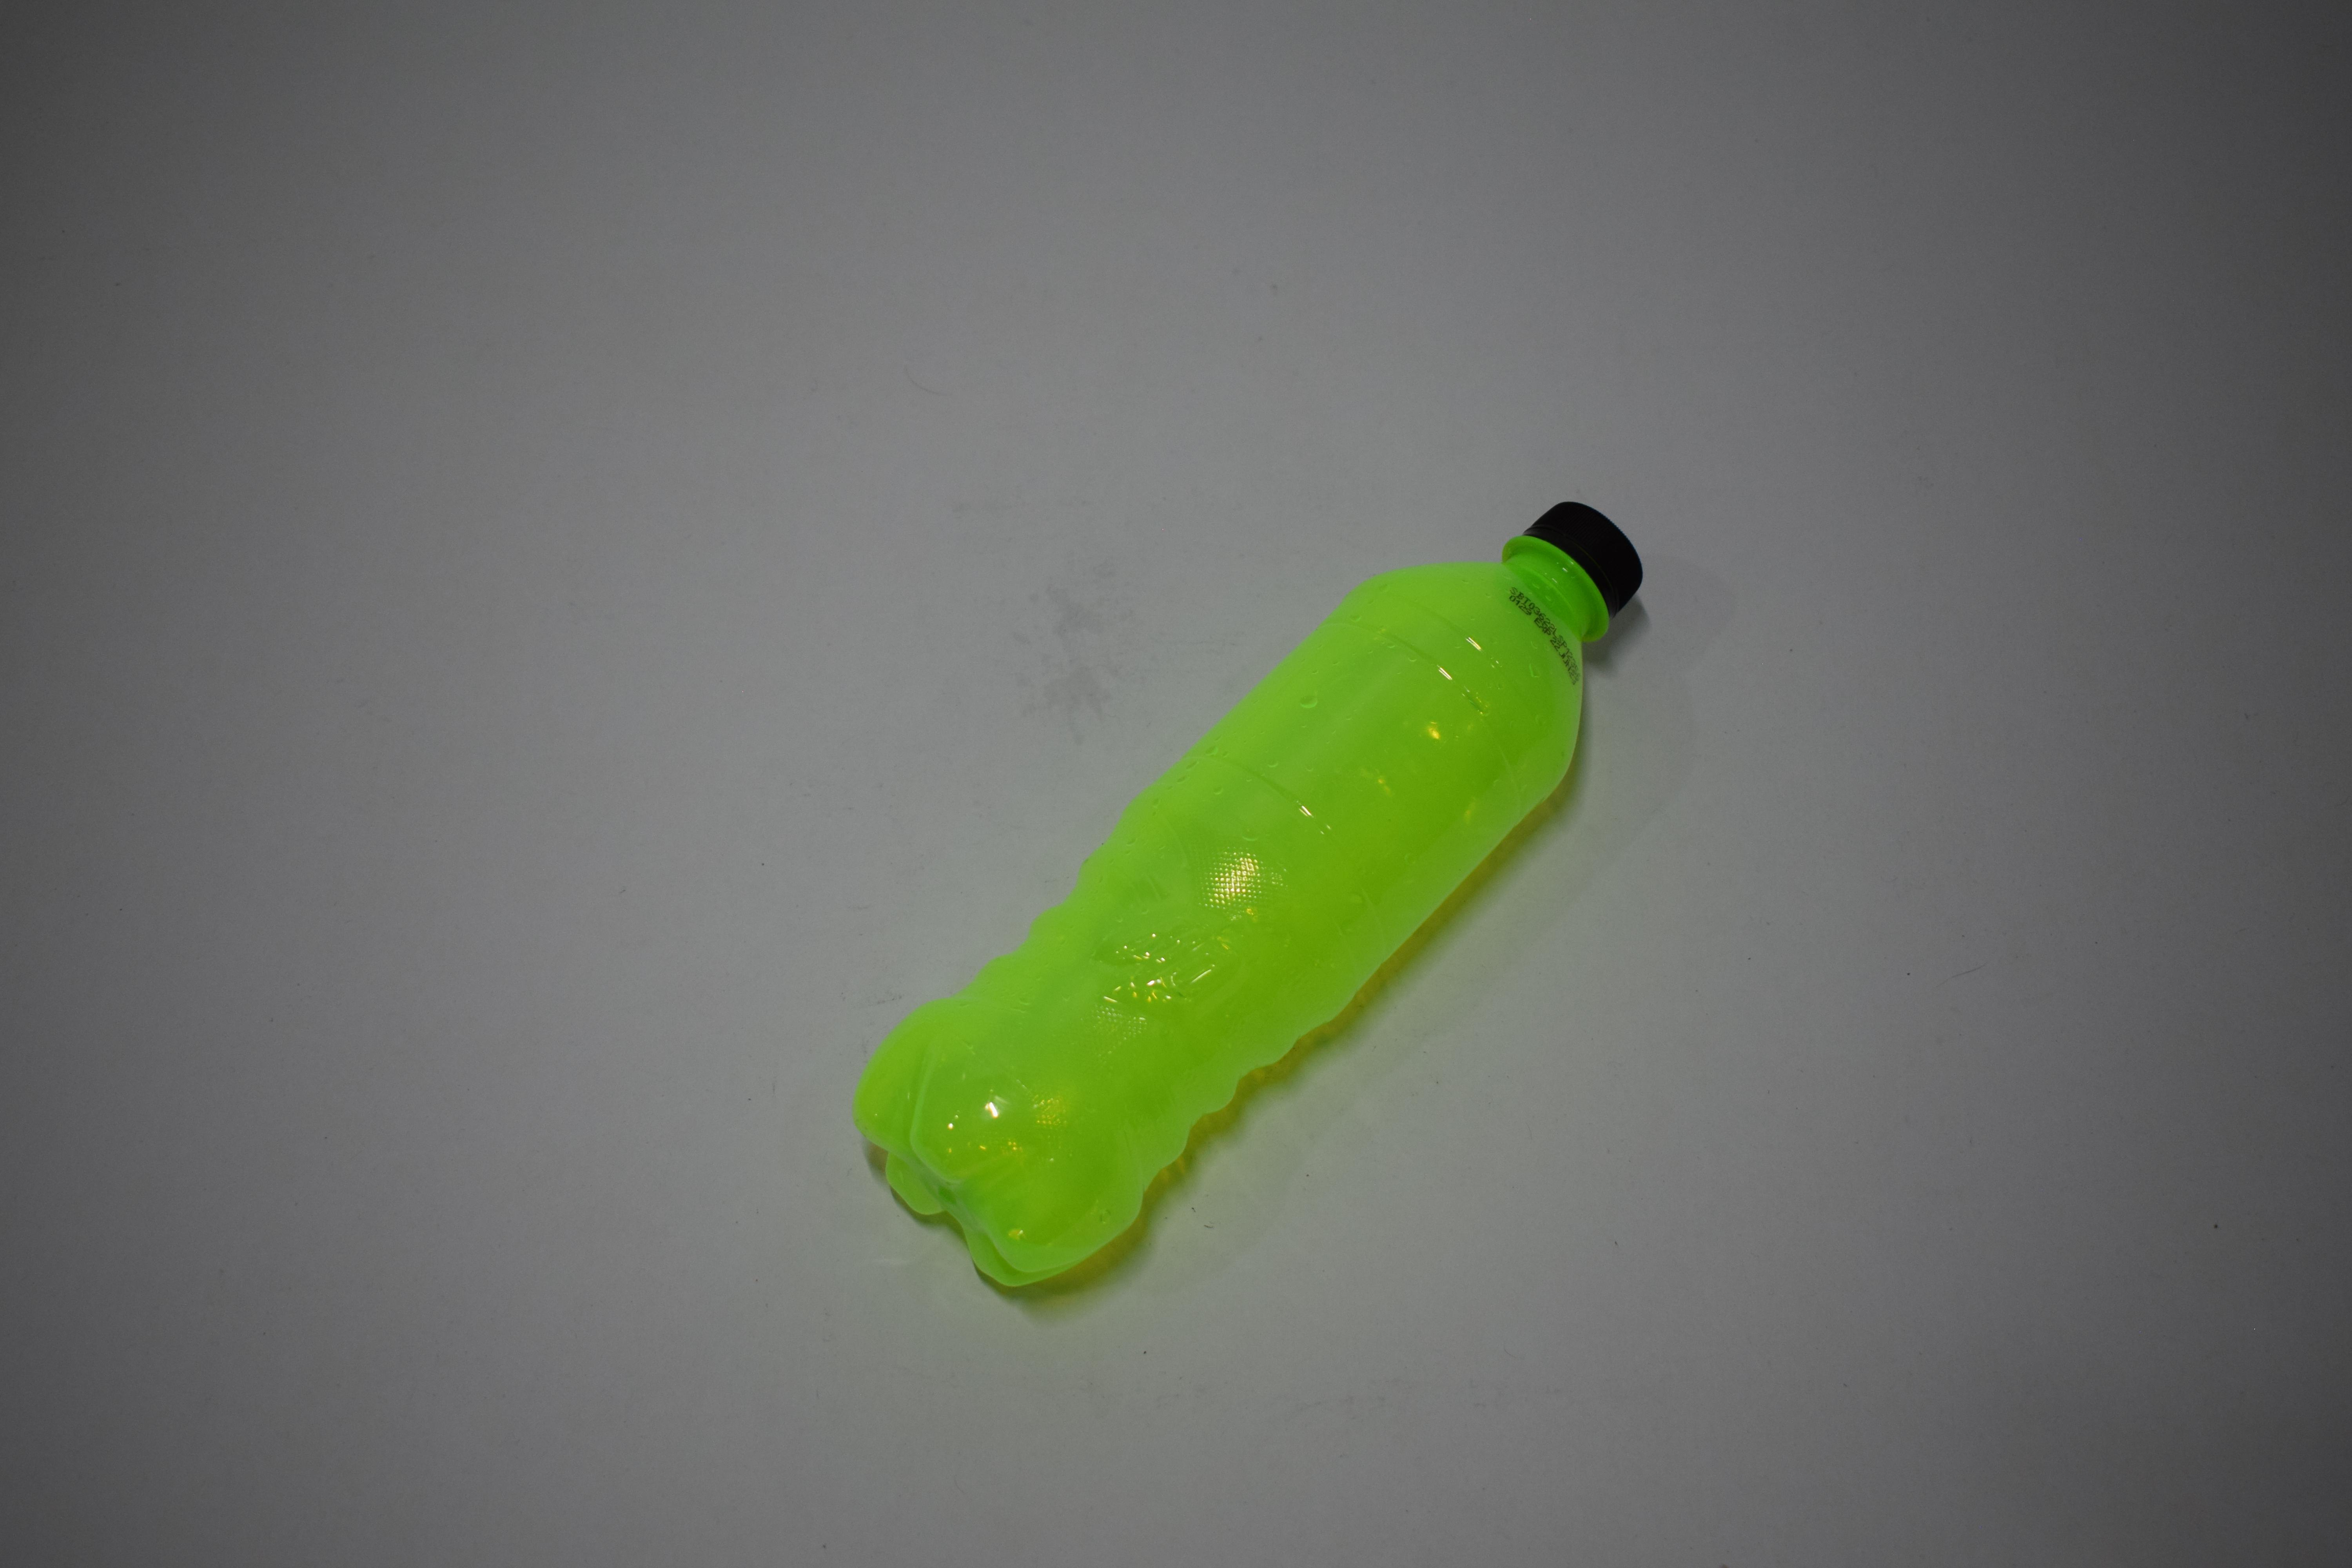bottle: (0, 102, 474, 121)
